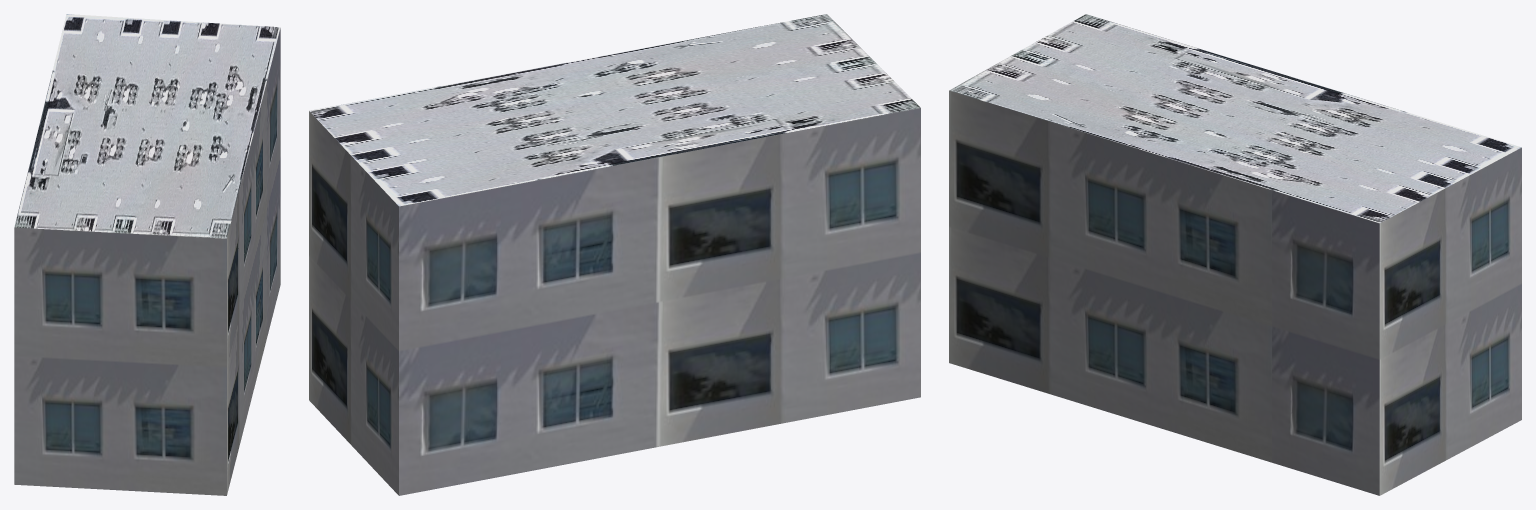
Rendered from ResTex__4718.fbx.
3 renders of one model, left to right at view 1: azimuth 30°, elevation 25°; view 2: azimuth 150°, elevation 25°; view 3: azimuth 270°, elevation 25°, orthographic. The views are drawn at different scales.
Parts seen in each view (by area): view 1: CityEngineMaterial_10_m, CityEngineMaterial_4_m; view 2: CityEngineMaterial_10_m, CityEngineMaterial_4_m; view 3: CityEngineMaterial_10_m, CityEngineMaterial_4_m.
Boxes of the visible parts, bbox=[...] form: CityEngineMaterial_10_m: bbox=[14, 28, 280, 495]; CityEngineMaterial_4_m: bbox=[14, 14, 280, 238]; CityEngineMaterial_10_m: bbox=[309, 108, 920, 495]; CityEngineMaterial_4_m: bbox=[309, 14, 920, 206]; CityEngineMaterial_10_m: bbox=[949, 90, 1521, 495]; CityEngineMaterial_4_m: bbox=[949, 14, 1521, 223].
Size of the model in its own units: 9.89 by 6 by 11.43.
Materials: 2 (2 with a texture image).
